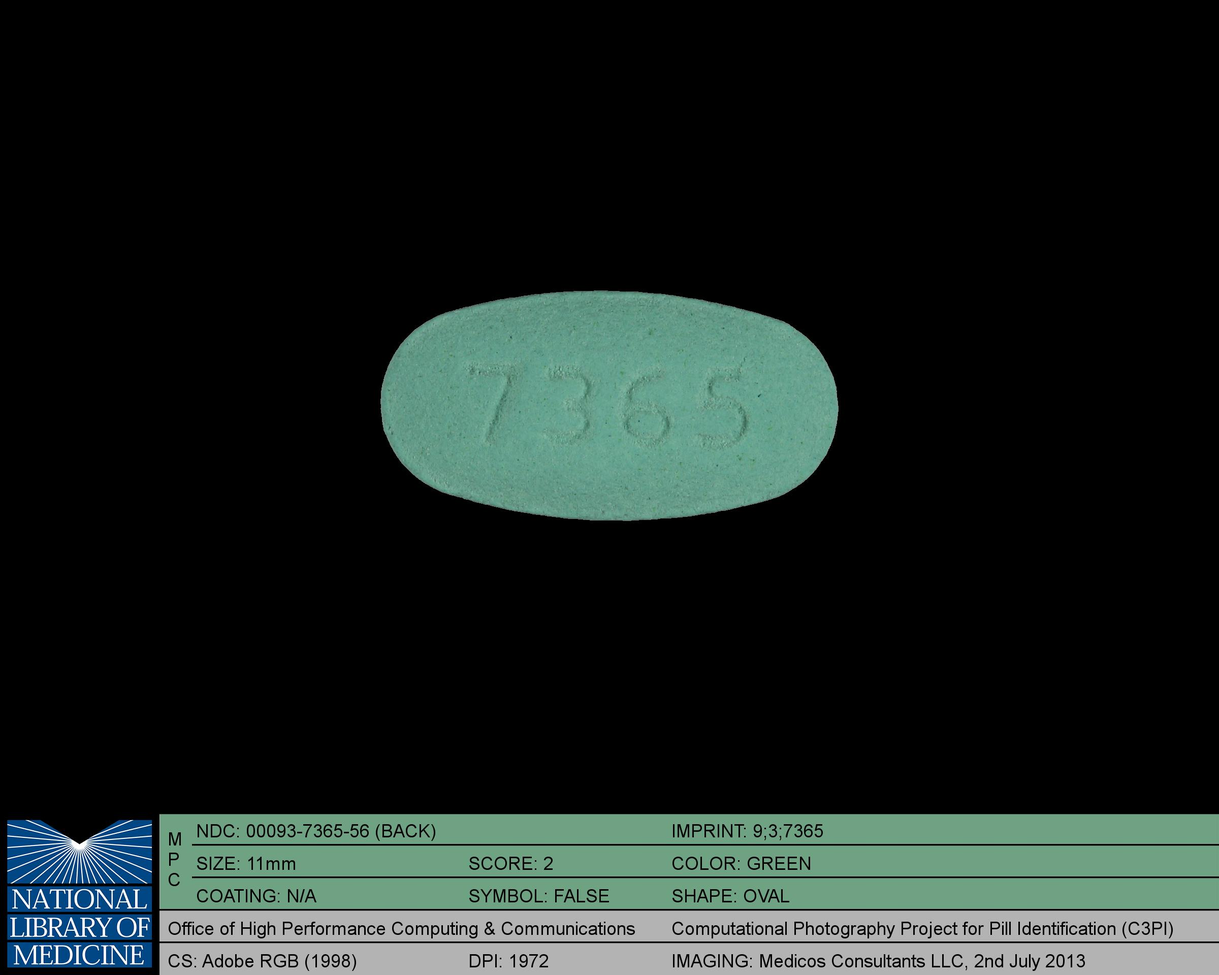Pill: (371, 283, 848, 530)
